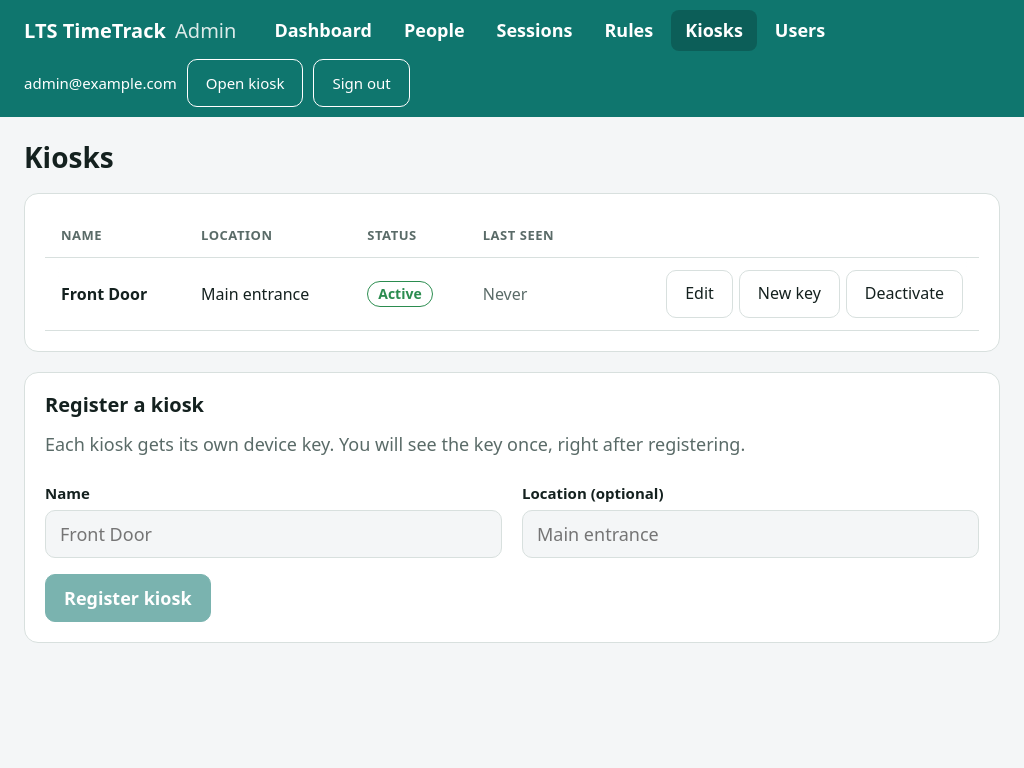
Test: kiosks page › can cancel an edit, and reports a name that is taken
Click the button with aria-label "Edit Front Door" at (700, 294), box [666,270,733,318]
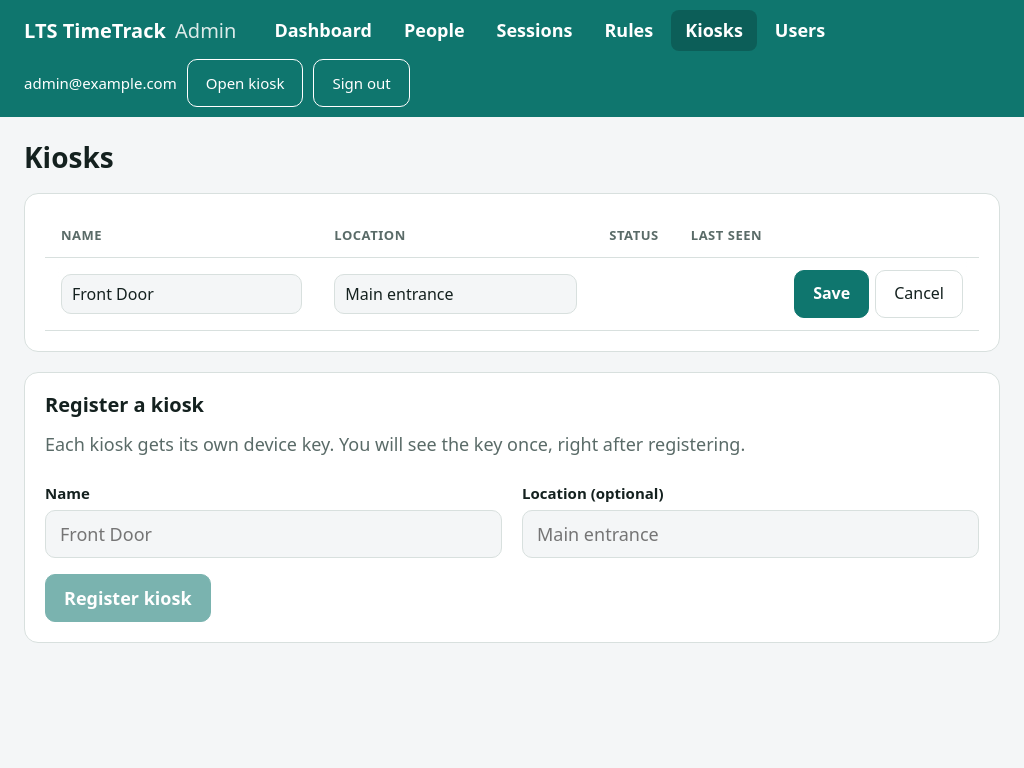
Click the button "Cancel" at (919, 294), box [875,270,963,318]
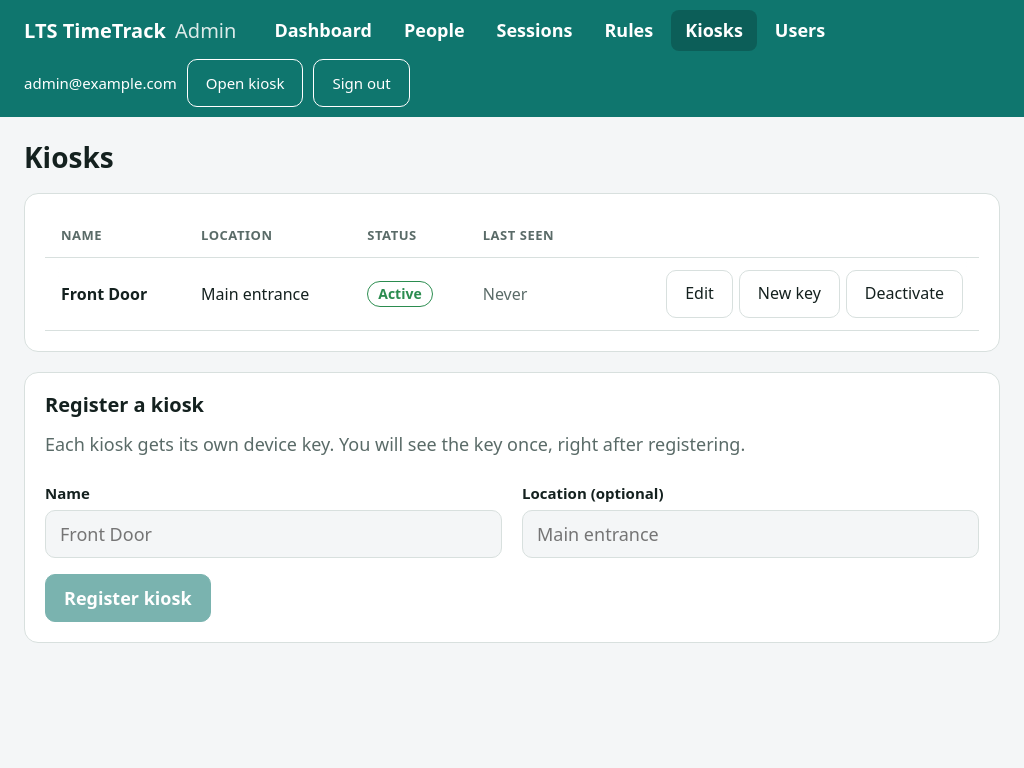
Result: the cell "Front Door" is shown at [45,257,185,331]
Click the button with aria-label "Edit Front Door" at (700, 294), box [666,270,733,318]
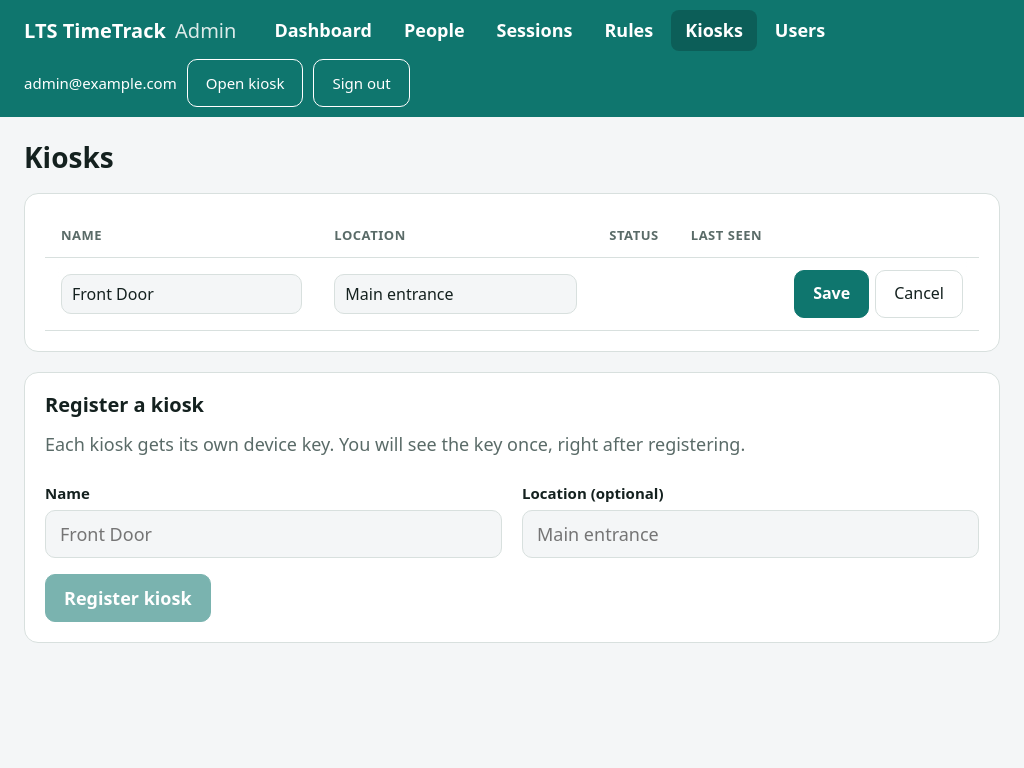
Click the button "Save" at (832, 294), box [794,270,869,318]
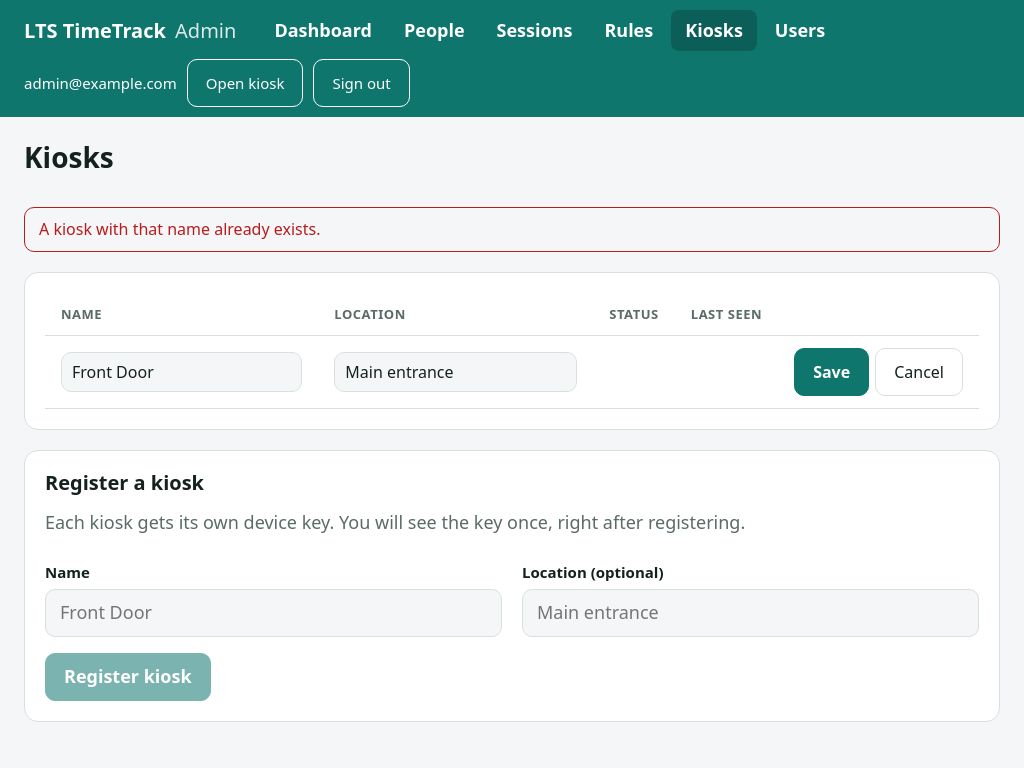
Result: the message shows "already exists" at [39,218,320,240]
